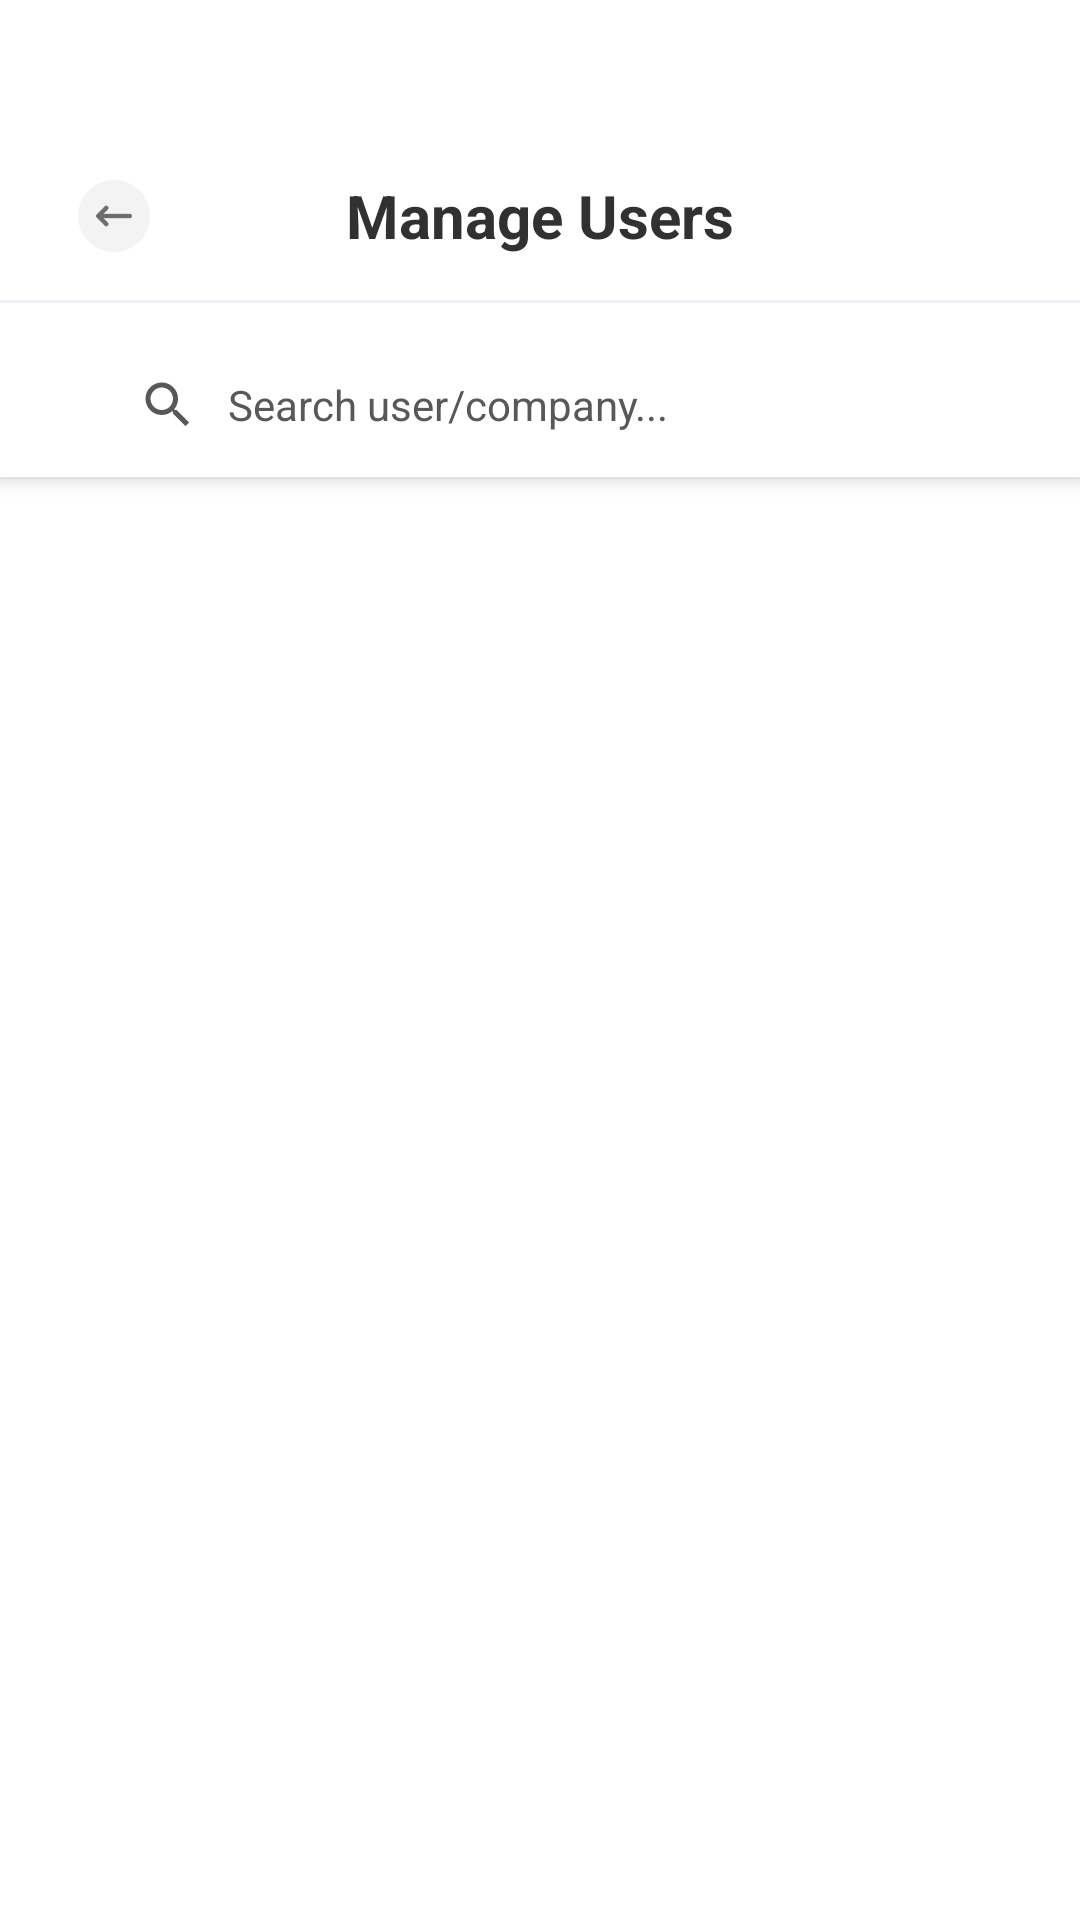

Icons on this 1080*1920 Android screen, each with its box as [x1,y1,x2,y2]:
Back: [78,180,150,252]
